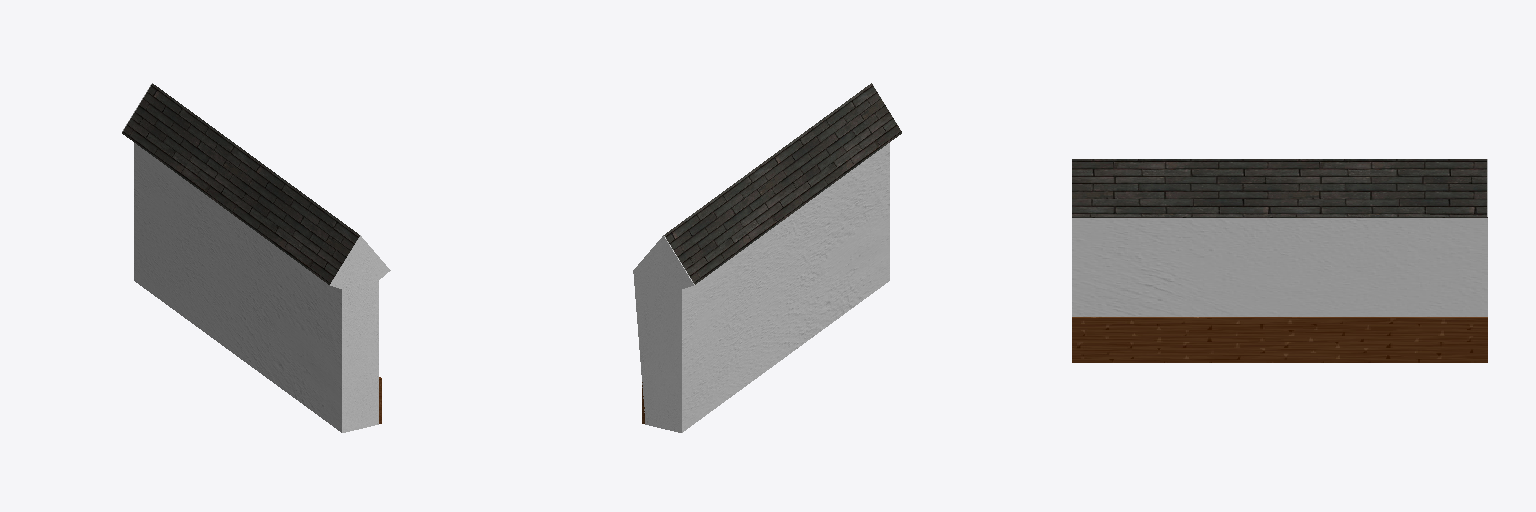
3 renders of one model, left to right at view 1: azimuth 30°, elevation 25°; view 2: azimuth 150°, elevation 25°; view 3: azimuth 270°, elevation 25°, orthographic.
Visible parts, largest first — view 1: Cube; view 2: Cube; view 3: Cube.
Boxes of the visible parts, box(x1,y1,x2,y2) form: Cube: box(122, 83, 390, 432); Cube: box(633, 83, 901, 432); Cube: box(1072, 159, 1487, 362).
Size of the model in its own units: 1.69 by 5.13 by 10.
1 materials, 1 textured.